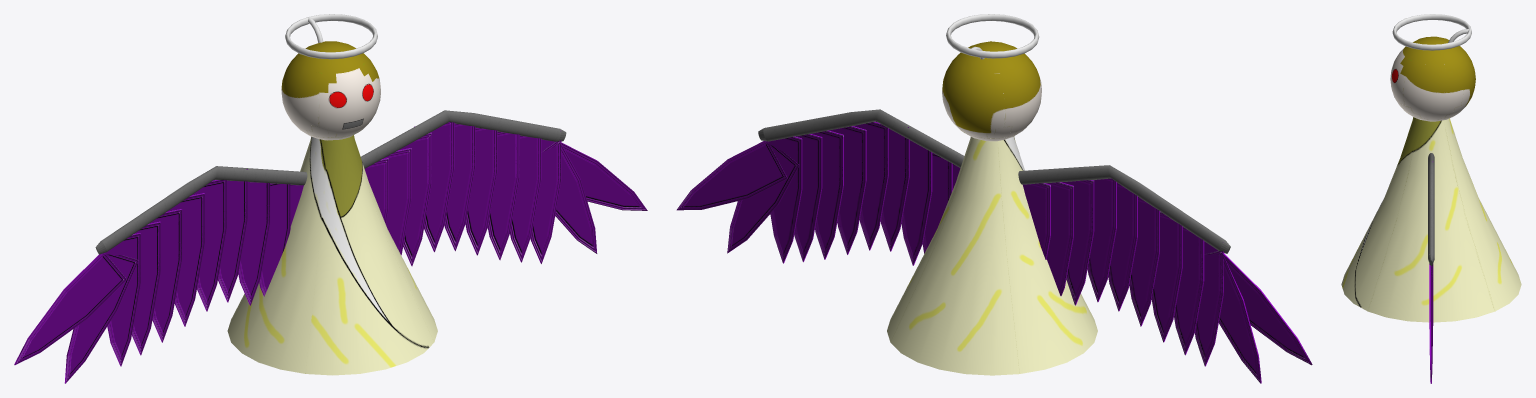
The model's file is angel.fbx.
The picture shows the model from 3 angles, left to right: view 1: azimuth 30°, elevation 25°; view 2: azimuth 150°, elevation 25°; view 3: azimuth 270°, elevation 25°; orthographic projection. The views are drawn at different scales.
Visible parts, largest first — view 1: Cone001, Sphere001, Box012, Cylinder001, Cylinder004, Box015, Box005, Box016, Box008, Box004, Box006, Box014 (+14 smaller); view 2: Cone001, Sphere001, Box023, Cylinder001, Cylinder004, Box004, Box016, Box017, Box019, Box005, Box015, Box003 (+14 smaller); view 3: Cone001, Sphere001, Torus001, Cylinder004, Box023.
Boxes of the visible parts, x1,y1,x2,y2 form: Cone001: [227, 135, 437, 375]; Sphere001: [281, 41, 380, 140]; Box012: [14, 253, 126, 365]; Cylinder001: [95, 166, 307, 254]; Cylinder004: [360, 110, 566, 168]; Box015: [487, 131, 519, 260]; Box005: [167, 193, 204, 326]; Box016: [465, 127, 497, 255]; Box008: [238, 182, 270, 305]; Box004: [149, 209, 182, 342]; Box006: [191, 180, 226, 311]; Box014: [510, 135, 541, 262]; Cone001: [887, 136, 1097, 375]; Sphere001: [942, 41, 1041, 141]; Box023: [676, 141, 787, 210]; Cylinder001: [1018, 165, 1230, 253]; Cylinder004: [758, 109, 964, 167]; Box004: [1151, 211, 1182, 342]; Box016: [829, 126, 866, 254]; Box017: [853, 121, 888, 250]; Box019: [901, 140, 932, 265]; Box005: [1129, 197, 1159, 326]; Box015: [811, 130, 843, 259]; Box003: [1174, 227, 1204, 355]; Cone001: [1341, 117, 1521, 322]; Sphere001: [1390, 36, 1475, 121]; Torus001: [1392, 14, 1471, 50]; Cylinder004: [1428, 153, 1434, 266]; Box023: [1429, 265, 1433, 378].
Size of the model in its own units: 275 by 124 by 79.07.
4 materials, 4 textured.
